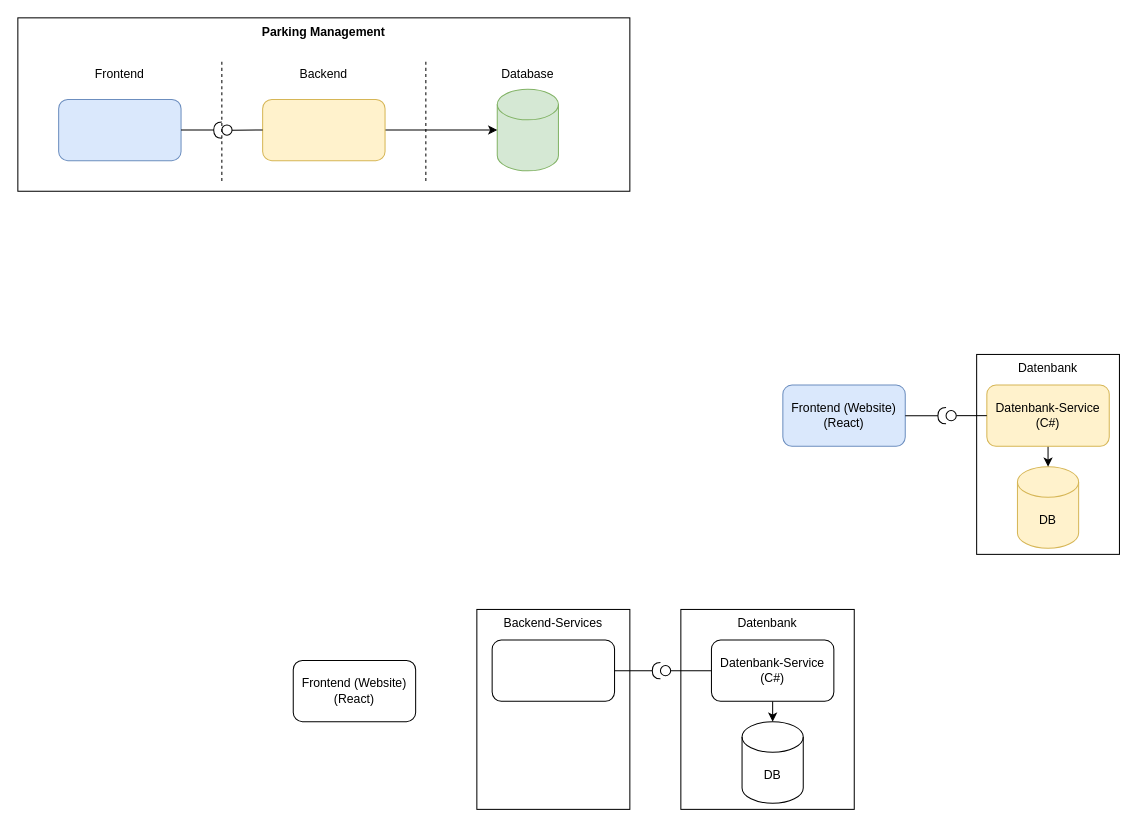
The diagram is 1137 pixels wide and 827 high, and some of its shapes have lost their labels. The centre of each missing label's shape, as x and y in pixels:
"Backend (C#)" belongs at point (553, 670).
"Database Service (C#)" belongs at point (323, 129).
"Frontend Service (ReactJS)" belongs at point (119, 129).
"MongoDB" belongs at point (527, 129).
